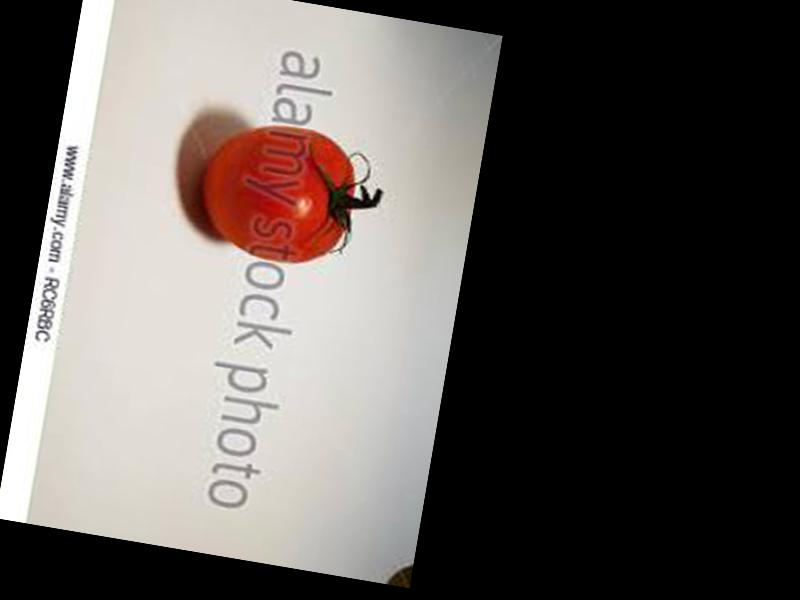Tomato: (193, 114, 365, 273)
